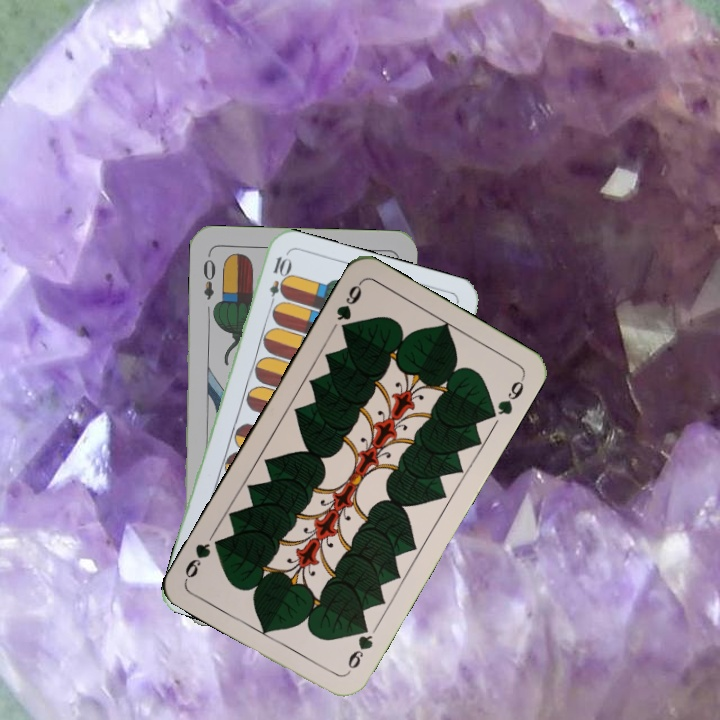E10: (265, 252, 291, 311)
EO: (199, 250, 218, 302)
G9: (332, 278, 365, 337), (343, 619, 376, 676)
